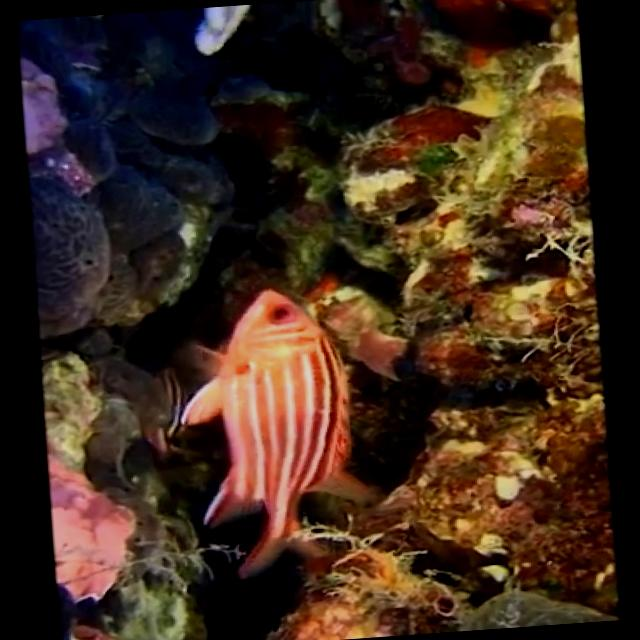Asker Baligi: (163, 282, 381, 584)
